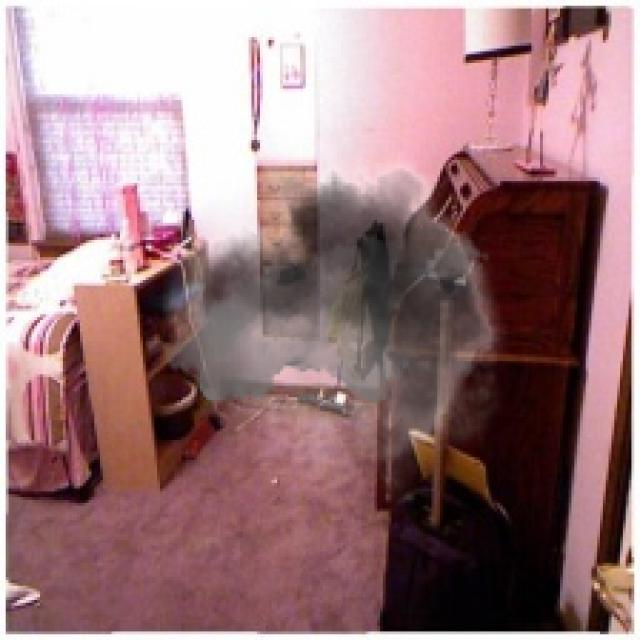smoke: (163, 117, 520, 506)
